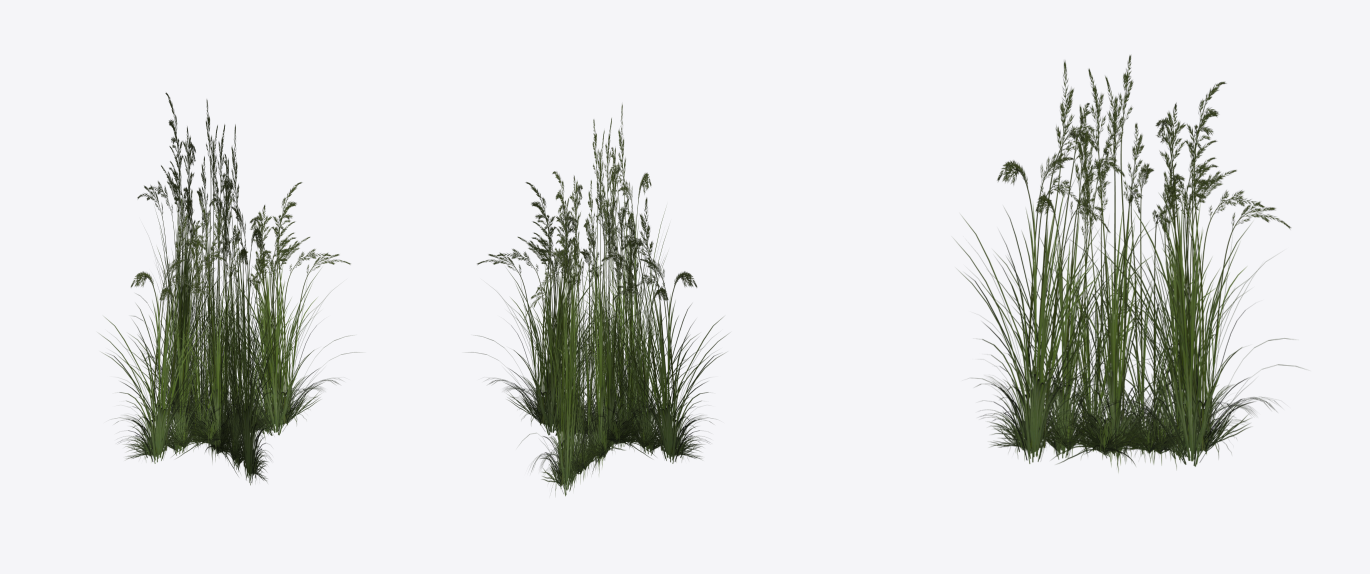
Rendered from bush1.glb.
3 views of the same model, side by side, from view 1: azimuth 30°, elevation 25°; view 2: azimuth 150°, elevation 25°; view 3: azimuth 270°, elevation 25° (orthographic). The views are drawn at different scales.
Visible parts, largest first — view 1: bush1; view 2: bush1; view 3: bush1.
Boxes of the visible parts, x1=… form: bush1: x1=100, y1=92, x2=357, y2=485; bush1: x1=470, y1=103, x2=727, y2=496; bush1: x1=954, y1=54, x2=1303, y2=472.
Size of the model in its own units: 0.2937 by 0.2792 by 0.2937.
Materials: 1 (1 with a texture image).
